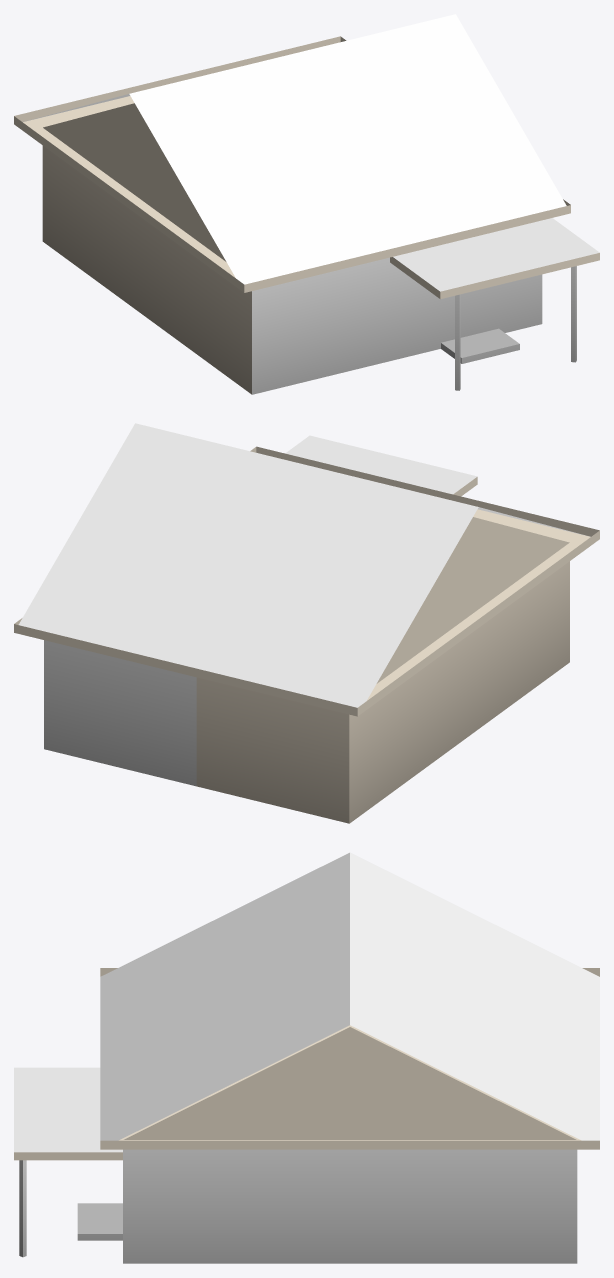
Rendered from HouseA_Beige.fbx.
The picture shows the model from 3 angles, top to bottom: view 1: azimuth 30°, elevation 25°; view 2: azimuth 150°, elevation 25°; view 3: azimuth 270°, elevation 25°; orthographic projection. The views are drawn at different scales.
Visible parts, largest first — view 1: HouseA_Beige; view 2: HouseA_Beige; view 3: HouseA_Beige.
Part boxes in pixels (x1,y1,x2,y2): HouseA_Beige: (14,14,599,394); HouseA_Beige: (14,423,599,823); HouseA_Beige: (14,852,599,1263).
Bounding box in the file's own units: 9 × 6.03 × 12.9.
